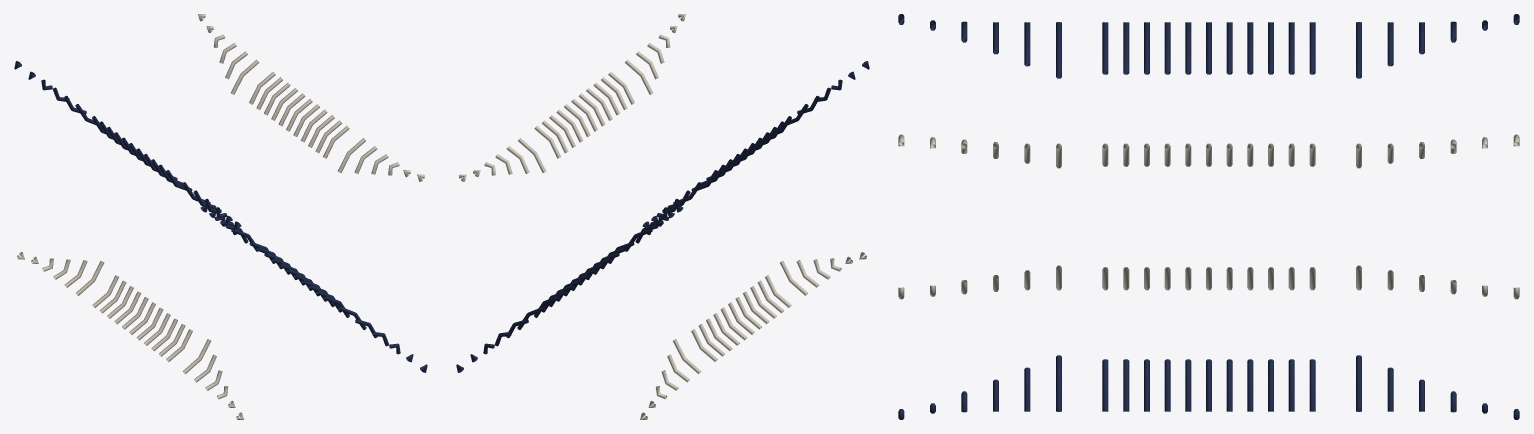
File: srw_harness.obj
3 views of the same model, side by side, from view 1: azimuth 30°, elevation 25°; view 2: azimuth 150°, elevation 25°; view 3: azimuth 270°, elevation 25° (orthographic). The views are drawn at different scales.
Parts seen in each view (by area): view 1: srw_harness; view 2: srw_harness; view 3: srw_harness.
Boxes of the visible parts, x1,y1,x2,y2 form: srw_harness: (14, 14, 427, 419); srw_harness: (456, 14, 869, 419); srw_harness: (898, 14, 1519, 419).
Size of the model in its own units: 1.75 by 1.75 by 3.47.
